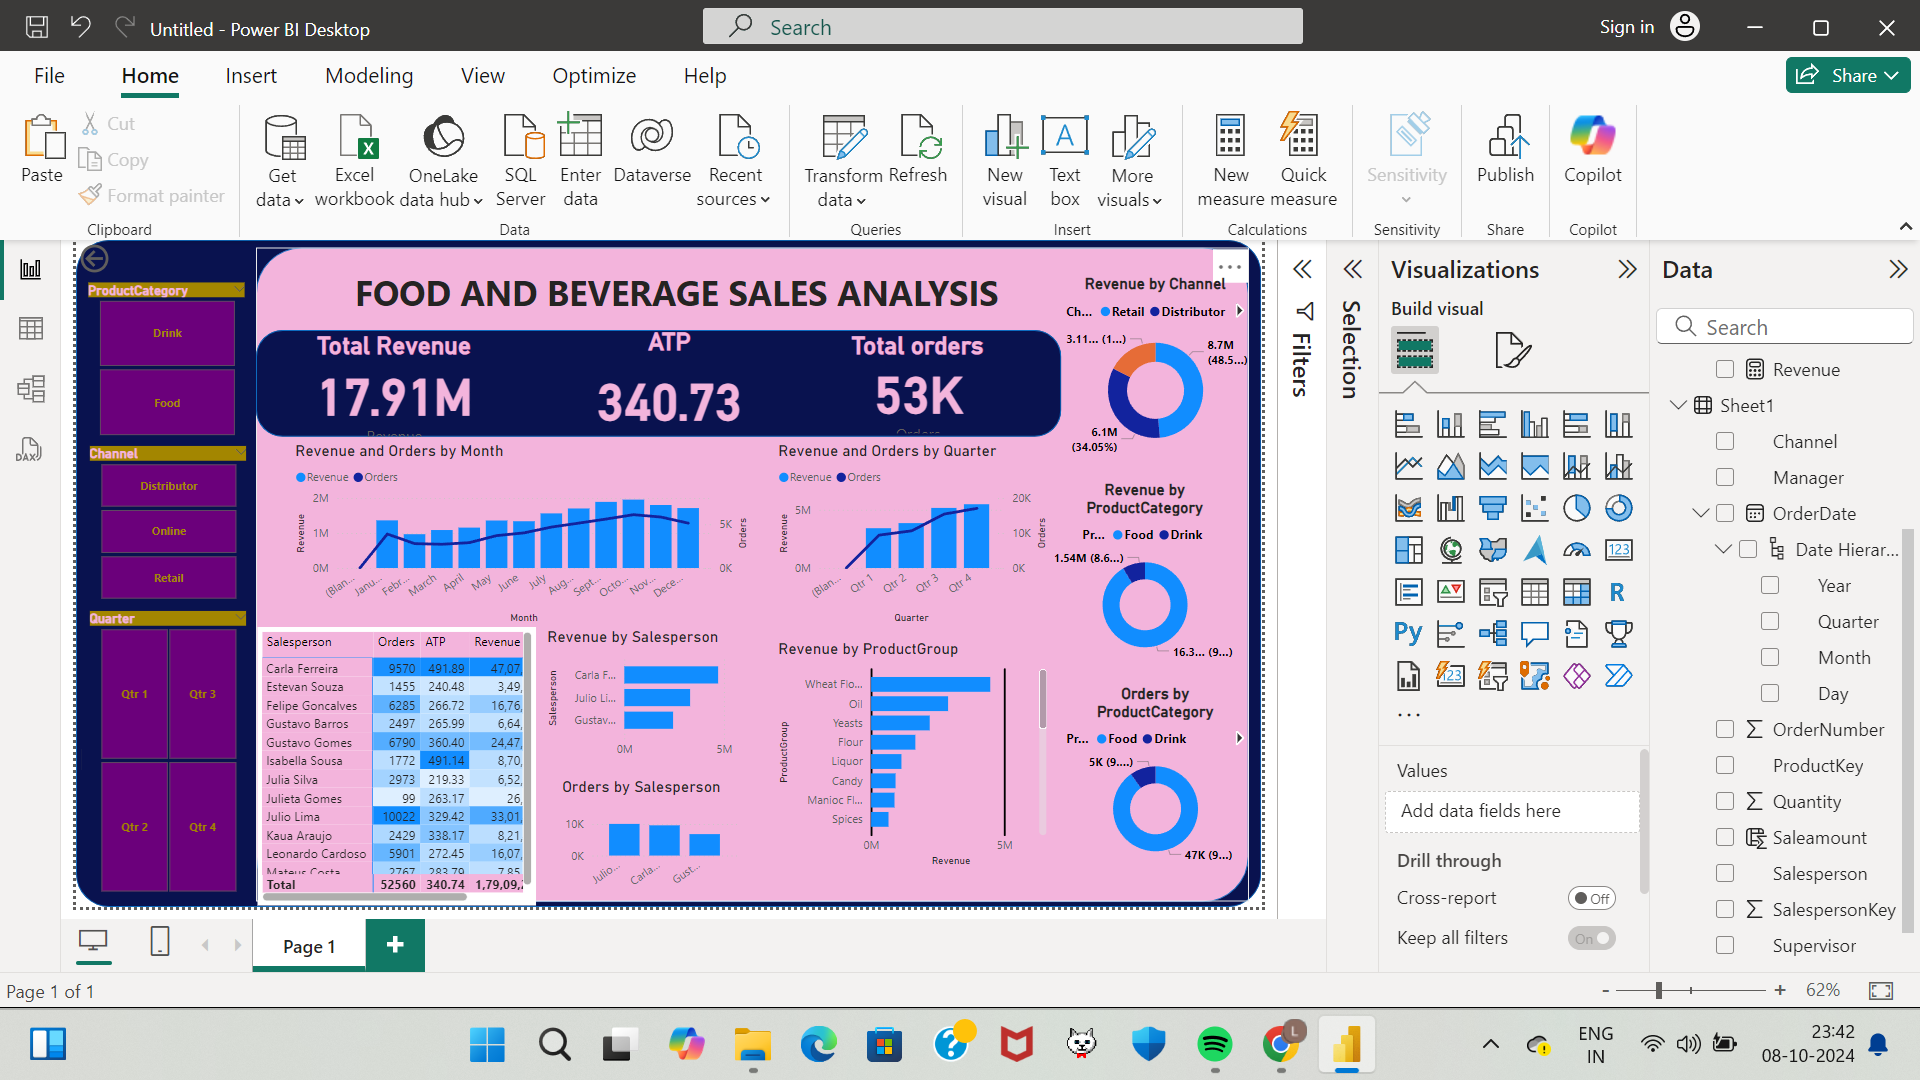

Layout of this report page (visuals, bound fields, positions):
{"tool":"powerbi","page":{"name":"Page 1","canvas":[1280,720],"ordinal":0},"visuals":[{"type":"shape","box":[0,0,1279.4,720],"z":0},{"type":"shape","box":[194.6,7.6,1071.5,706.8],"z":1000},{"type":"shape","box":[194.6,96.4,869.3,115.3],"z":2000},{"type":"card","title":"Total Revenue","fields":{"Values":["Product.Revenue"]},"box":[194.3,98.8,297.9,118.2],"z":3000},{"type":"card","title":"ATP","fields":{"Values":["Product.ATP"]},"box":[503.2,93.9,273.6,118.2],"z":4000},{"type":"card","title":"Total orders","fields":{"Values":["Product.Orders"]},"box":[752.9,98.8,310.9,115],"z":5000},{"type":"donutChart","fields":{"Y":["Product.Revenue"],"Category":["Sheet1.Channel"]},"box":[1063.8,37.2,202.4,200.8],"z":6000},{"type":"donutChart","fields":{"Y":["Product.Revenue"],"Category":["Product.ProductCategory"]},"box":[1052.5,259.1,202.4,200.8],"z":7000},{"type":"donutChart","fields":{"Category":["Product.ProductCategory"],"Y":["Product.Orders"]},"box":[1063.8,479.3,202.4,200.8],"z":8000},{"type":"lineStackedColumnComboChart","fields":{"Y":["Product.Revenue"],"Y2":["Product.Orders"],"Category":["Sheet1.OrderDate.Variation.Date Hierarchy.Quarter"]},"box":[752.9,217,299.6,200.8],"z":9000},{"type":"barChart","fields":{"Y":["Product.Revenue"],"Category":["Product.ProductGroup"]},"box":[752.9,430.7,299.6,249.4],"z":10000},{"type":"lineStackedColumnComboChart","fields":{"Y":["Product.Revenue"],"Y2":["Product.Orders"],"Category":["Sheet1.OrderDate.Variation.Date Hierarchy.Month"]},"box":[231.5,217,498.7,200.8],"z":11000},{"type":"barChart","fields":{"Category":["Sheet1.Salesperson"],"Y":["Product.Revenue"]},"box":[503.9,418.3,231,149.4],"z":12000},{"type":"clusteredColumnChart","fields":{"Category":["Sheet1.Salesperson"],"Y":["Product.Orders"]},"box":[519.8,579.6,199.2,129.5],"z":13000},{"type":"pivotTable","fields":{"Rows":["Sheet1.Salesperson"],"Values":["Product.Orders","Product.ATP","Product.Revenue"]},"box":[195.2,418.3,300.8,300.8],"z":14000},{"type":"actionButton","box":[0,0,100,40],"z":15000},{"type":"slicer","fields":{"Values":["Product.ProductCategory"]},"box":[0,39.8,195.2,177.3],"z":16000},{"type":"slicer","fields":{"Values":["Sheet1.Channel"]},"box":[2,217.1,195.2,177.3],"z":17000},{"type":"slicer","fields":{"Values":["Sheet1.OrderDate.Variation.Date Hierarchy.Quarter"]},"box":[2,394.4,195.2,314.7],"z":18000},{"type":"textbox","box":[231,8,802.7,85.6],"z":19000}]}

Visuals, with their boxes on the page's 1280x720 design canvas (x1, y1, x2, y2). These are canvas units, not pixel positions in the 1920x1080 screenshot, which may show the page scaled, cropped or inside an application window:
shape: box(0, 0, 1279, 720)
shape: box(195, 8, 1266, 714)
shape: box(195, 96, 1064, 212)
"Total Revenue" card: box(194, 99, 492, 217)
"ATP" card: box(503, 94, 777, 212)
"Total orders" card: box(753, 99, 1064, 214)
donutChart - Product.Revenue x Sheet1.Channel: box(1064, 37, 1266, 238)
donutChart - Product.Revenue x Product.ProductCategory: box(1052, 259, 1255, 460)
donutChart - Product.ProductCategory x Product.Orders: box(1064, 479, 1266, 680)
lineStackedColumnComboChart - Product.Revenue x Product.Orders: box(753, 217, 1052, 418)
barChart - Product.Revenue x Product.ProductGroup: box(753, 431, 1052, 680)
lineStackedColumnComboChart - Product.Revenue x Product.Orders: box(232, 217, 730, 418)
barChart - Sheet1.Salesperson x Product.Revenue: box(504, 418, 735, 568)
clusteredColumnChart - Sheet1.Salesperson x Product.Orders: box(520, 580, 719, 709)
pivotTable - Sheet1.Salesperson x Product.Orders: box(195, 418, 496, 719)
actionButton: box(0, 0, 100, 40)
slicer - Product.ProductCategory: box(0, 40, 195, 217)
slicer - Sheet1.Channel: box(2, 217, 197, 394)
slicer - Sheet1.OrderDate.Variation.Date Hierarchy.Quarter: box(2, 394, 197, 709)
textbox: box(231, 8, 1034, 94)
